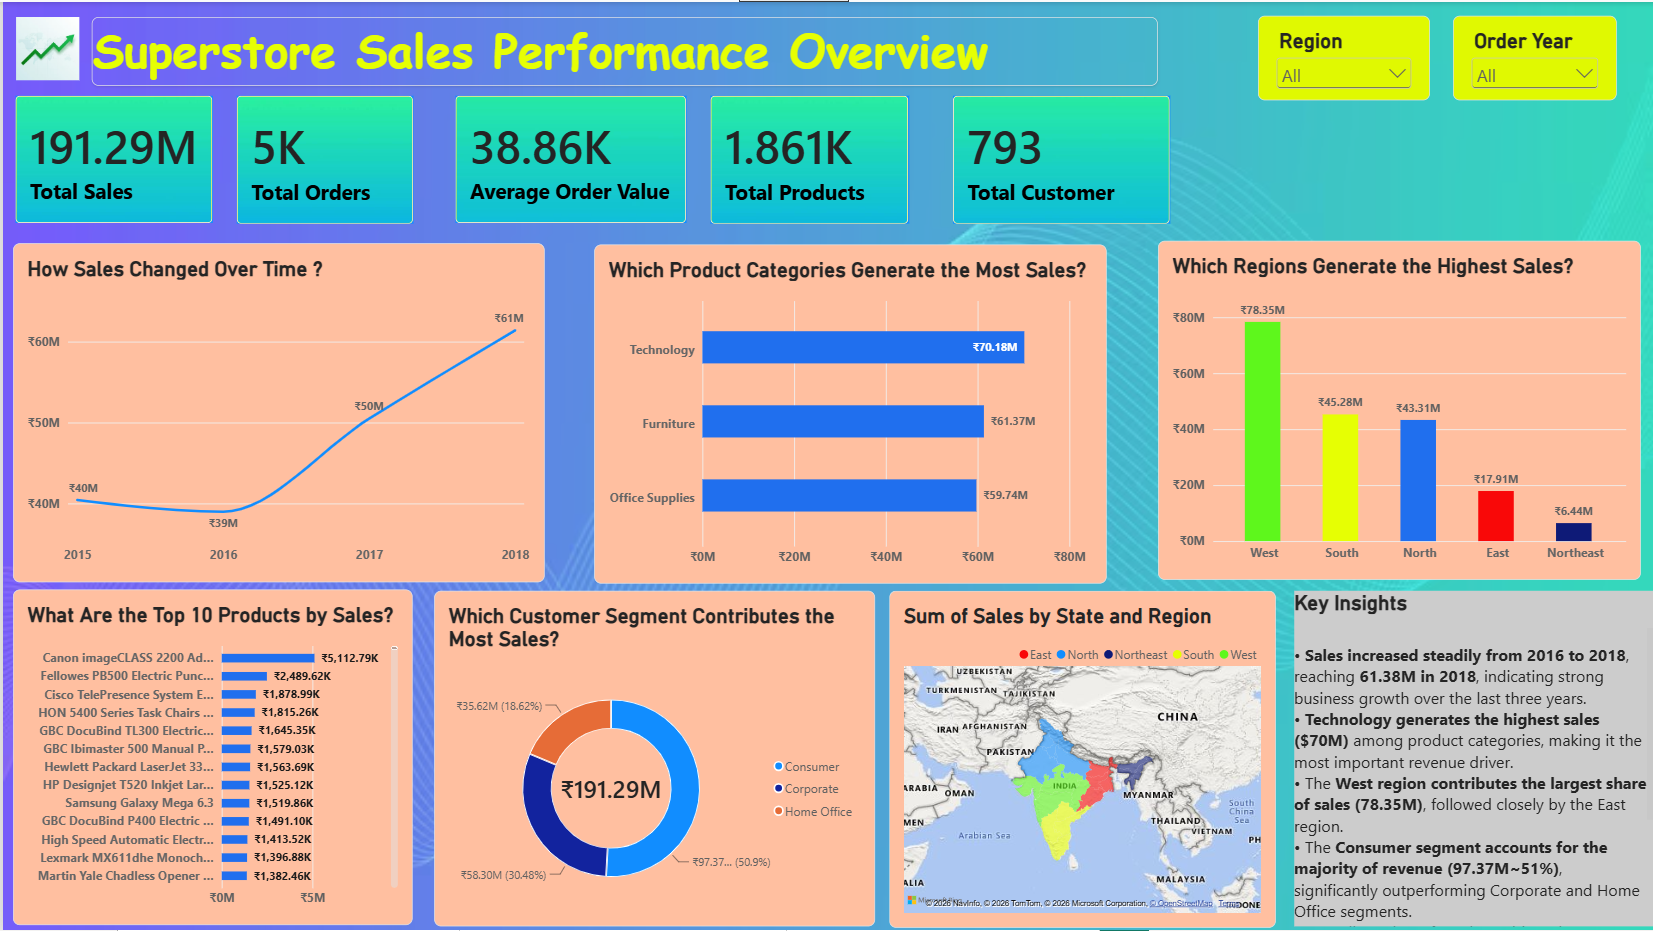

The page's visual inventory and layout, read from the dashboard file:
{"tool":"powerbi","page":{"name":"Dashboard 1 - Sales Performance Overview ","canvas":[1920,1080],"ordinal":0},"visuals":[{"type":"textbox","box":[10.5,0,727.3,137.8],"z":0},{"type":"textbox","box":[102.9,17.4,1240.1,80.2],"z":1000},{"type":"image","box":[0,17.4,103.8,73.8],"z":2000},{"type":"cardVisual","fields":{"Data":["superstore_clean_data.Total Sales"]},"box":[14.8,109.3,229.6,148.1],"z":3000},{"type":"cardVisual","fields":{"Data":["Count(superstore_clean_data.Product ID)"]},"box":[823.6,109.1,230.9,149.1],"z":4000},{"type":"cardVisual","fields":{"Data":["superstore_clean_data.Average Order Value"]},"box":[525.9,109.3,268.5,148.1],"z":5000},{"type":"cardVisual","fields":{"Data":["superstore_clean_data.Total Orders"]},"box":[272.2,109.3,205.5,149.1],"z":6000},{"type":"cardVisual","fields":{"Data":["Count(superstore_clean_data.Customer ID)"]},"box":[1105.5,109.1,252.7,149.1],"z":7000},{"type":"lineChart","title":"How Sales Changed Over Time ?","fields":{"Category":["superstore_clean_data.Order Year"],"Y":["Sum(superstore_clean_data.Sales)"]},"box":[10.9,280,618.2,394.5],"z":8000},{"type":"clusteredBarChart","title":"Which Product Categories Generate the Most Sales?","fields":{"Category":["superstore_clean_data.Category"],"Y":["Sum(superstore_clean_data.Sales)"]},"box":[687.3,281.8,596.4,394.5],"z":9000},{"type":"columnChart","title":"Which Regions Generate the Highest Sales?","fields":{"Category":["superstore_clean_data.Region"],"Y":["Sum(superstore_clean_data.Sales)"]},"box":[1343.6,278.2,561.6,394.2],"z":10000},{"type":"barChart","title":"What Are the Top 10 Products by Sales?","fields":{"Category":["superstore_clean_data.Product Name"],"Y":["Sum(superstore_clean_data.Sales)"]},"box":[11.1,683.3,464.8,390.7],"z":11000},{"type":"donutChart","title":"Which Customer Segment Contributes the Most Sales?","fields":{"Category":["superstore_clean_data.Segment"],"Y":["Sum(superstore_clean_data.Sales)"]},"box":[501.8,685.5,512.8,390.7],"z":12000},{"type":"textbox","title":"Key Insights","box":[1502.2,685.2,418.2,390],"z":13000},{"type":"slicer","fields":{"Values":["superstore_clean_data.Region"]},"box":[1459.3,16.7,200,98.1],"z":14000},{"type":"slicer","fields":{"Values":["superstore_clean_data.Order Year"]},"box":[1687,16.7,190.7,98.1],"z":15000},{"type":"filledMap","fields":{"Category":["superstore_clean_data.State"],"Series":["superstore_clean_data.Region"]},"box":[1031.3,685.2,449.8,391.8],"z":16000}]}

Visuals, with their boxes in screenshot pixels (x1, y1, x2, y2), scaled from the page's 1920x1080 canvas onto the 1653x931 screenshot:
textbox: [left=9, top=0, right=635, bottom=119]
textbox: [left=89, top=15, right=1156, bottom=84]
image: [left=0, top=15, right=89, bottom=79]
cardVisual - superstore_clean_data.Total Sales: [left=13, top=94, right=210, bottom=222]
cardVisual - Count(superstore_clean_data.Product ID): [left=709, top=94, right=908, bottom=223]
cardVisual - superstore_clean_data.Average Order Value: [left=453, top=94, right=684, bottom=222]
cardVisual - superstore_clean_data.Total Orders: [left=234, top=94, right=411, bottom=223]
cardVisual - Count(superstore_clean_data.Customer ID): [left=952, top=94, right=1169, bottom=223]
"How Sales Changed Over Time ?" lineChart: [left=9, top=241, right=542, bottom=581]
"Which Product Categories Generate the Most Sales?" clusteredBarChart: [left=592, top=243, right=1105, bottom=583]
"Which Regions Generate the Highest Sales?" columnChart: [left=1157, top=240, right=1640, bottom=580]
"What Are the Top 10 Products by Sales?" barChart: [left=10, top=589, right=410, bottom=926]
"Which Customer Segment Contributes the Most Sales?" donutChart: [left=432, top=591, right=874, bottom=928]
"Key Insights" textbox: [left=1293, top=591, right=1652, bottom=927]
slicer - superstore_clean_data.Region: [left=1256, top=14, right=1429, bottom=99]
slicer - superstore_clean_data.Order Year: [left=1452, top=14, right=1617, bottom=99]
filledMap - superstore_clean_data.State x superstore_clean_data.Region: [left=888, top=591, right=1275, bottom=928]
